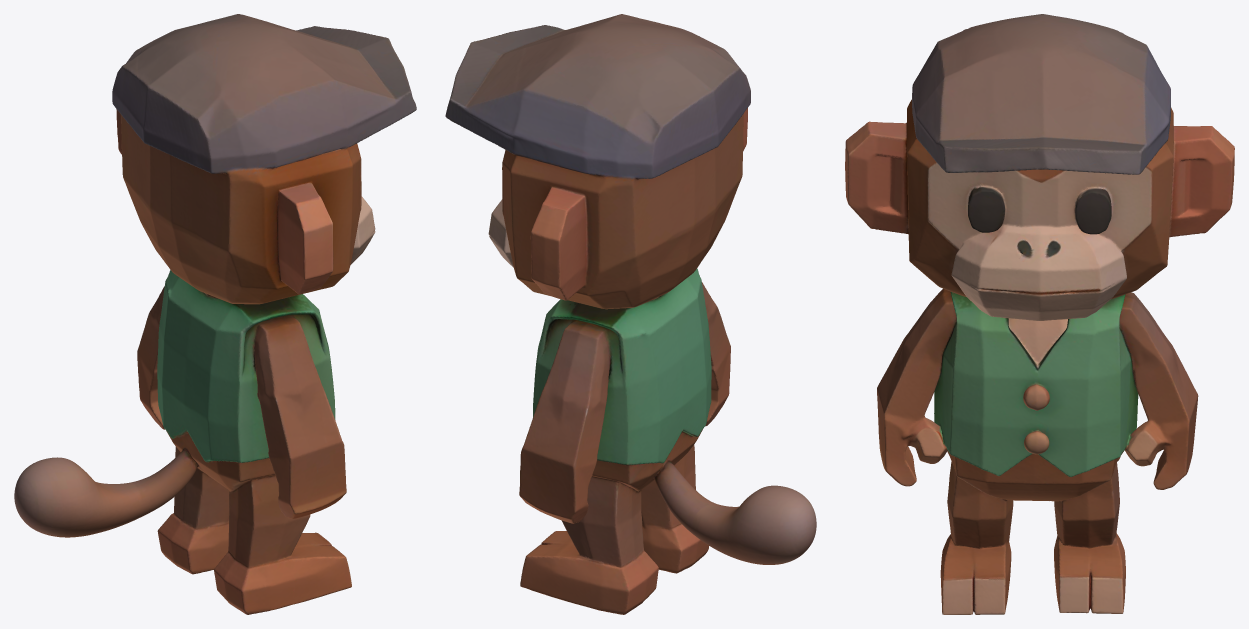
File: pat.glb
The picture shows the model from 3 angles, left to right: view 1: azimuth 30°, elevation 25°; view 2: azimuth 150°, elevation 25°; view 3: azimuth 270°, elevation 25°; orthographic projection. The views are drawn at different scales.
Parts seen in each view (by area): view 1: tripo_node_ccfa9b13-7a76-402f-a46a-5e4ec84fc9d6; view 2: tripo_node_ccfa9b13-7a76-402f-a46a-5e4ec84fc9d6; view 3: tripo_node_ccfa9b13-7a76-402f-a46a-5e4ec84fc9d6.
Part boxes in pixels (bbox=[...]): tripo_node_ccfa9b13-7a76-402f-a46a-5e4ec84fc9d6: bbox=[14, 14, 416, 614]; tripo_node_ccfa9b13-7a76-402f-a46a-5e4ec84fc9d6: bbox=[445, 14, 816, 614]; tripo_node_ccfa9b13-7a76-402f-a46a-5e4ec84fc9d6: bbox=[845, 14, 1234, 614].
Size of the model in its own units: 0.6948 by 1 by 0.6326.
1 material, 1 textured.
